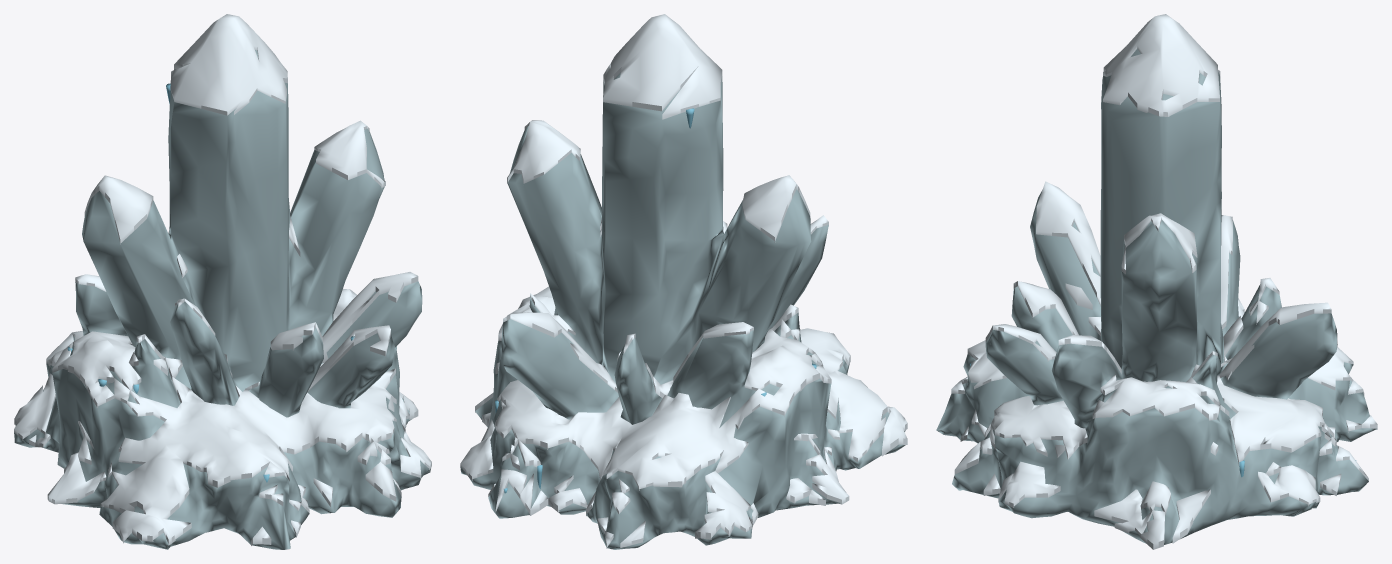
Rendered from SecondRoom_BlueCrystal.fbx.
3 renders of one model, left to right at view 1: azimuth 30°, elevation 25°; view 2: azimuth 150°, elevation 25°; view 3: azimuth 270°, elevation 25°, orthographic.
Visible parts, largest first — view 1: SecondRoom_BlueCrystal_LOD0; view 2: SecondRoom_BlueCrystal_LOD0; view 3: SecondRoom_BlueCrystal_LOD0.
Boxes of the visible parts, box(x1,y1,x2,y2) form: SecondRoom_BlueCrystal_LOD0: box(14, 14, 431, 549); SecondRoom_BlueCrystal_LOD0: box(460, 14, 907, 549); SecondRoom_BlueCrystal_LOD0: box(936, 14, 1377, 549).
Size of what is drawn, in the model's own units: 5.15 by 6.05 by 5.33.
